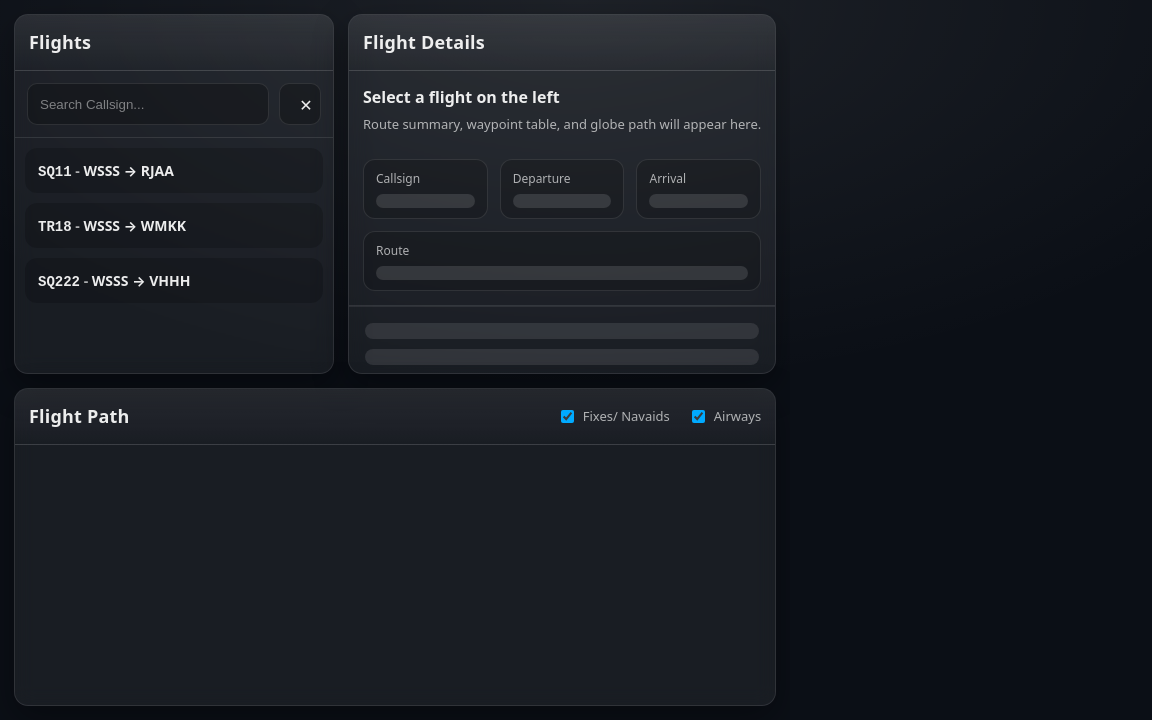
Flightplan UI (App) › 2) search filters properly by callsign (type-to-filter)
The image size is (1152, 720).
Expected: the text "SQ11" is shown, [38, 164, 72, 180]
Type "sq2" into the field labelled "Search Callsign".
click(148, 104); type("sq2")  # box [27, 83, 269, 125]
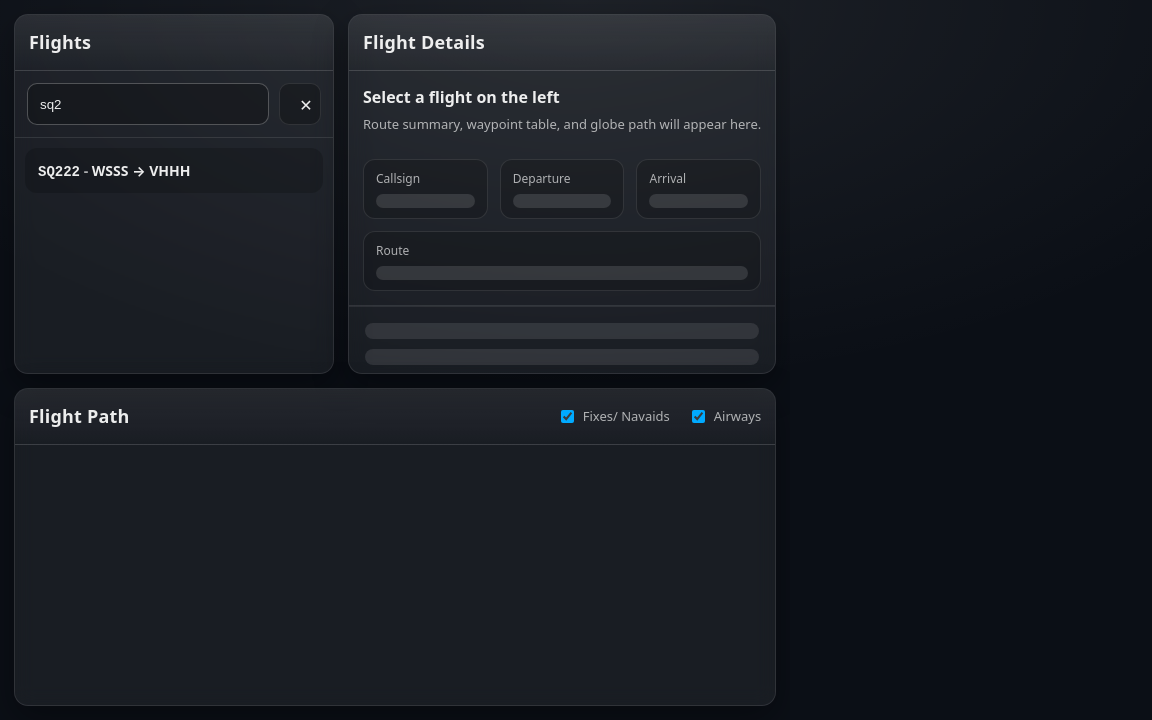
Expected: the text "SQ222" is shown, [38, 164, 80, 180]
Result: the list item "SQ11" is gone
Result: the list item "TR18" is gone
